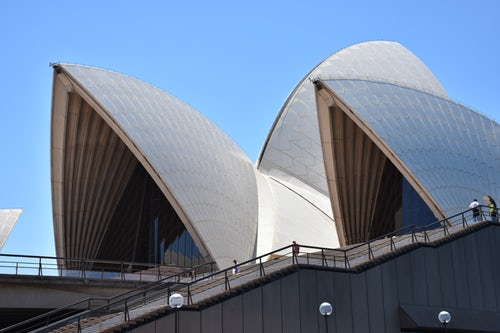opera house: (14, 5, 499, 271)
